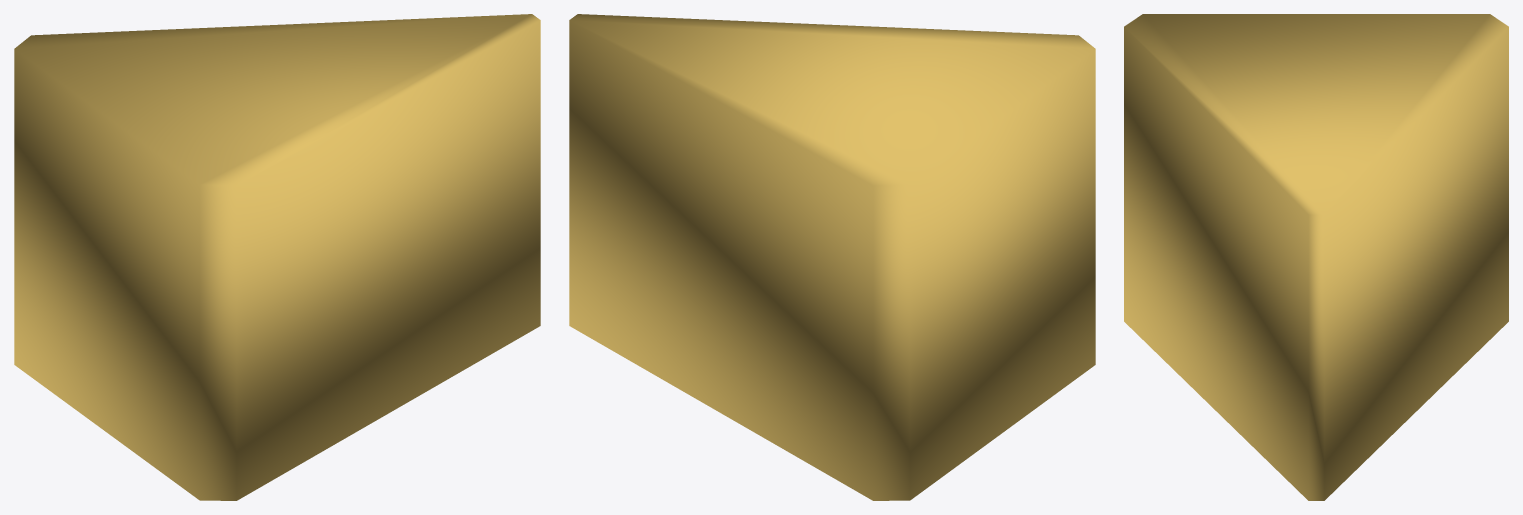
The model's file is cheese.fbx.
The picture shows the model from 3 angles, left to right: view 1: azimuth 30°, elevation 25°; view 2: azimuth 150°, elevation 25°; view 3: azimuth 270°, elevation 25°; orthographic projection. The views are drawn at different scales.
Visible parts, largest first — view 1: Cheese; view 2: Cheese; view 3: Cheese.
Part boxes in pixels (x1,y1,x2,y2): Cheese: (14,14,540,500); Cheese: (569,14,1095,500); Cheese: (1124,14,1508,500).
Bounding box in the file's own units: 171 × 120 × 142.
